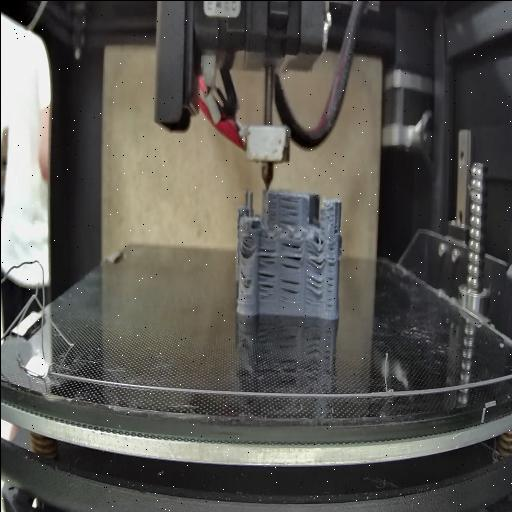cracks: (278, 241, 304, 269), (277, 194, 299, 226), (278, 274, 300, 300), (326, 245, 334, 308), (256, 271, 274, 297), (306, 245, 326, 267), (258, 242, 276, 266), (306, 274, 324, 296), (238, 238, 252, 256), (238, 266, 246, 280), (332, 219, 338, 233)
